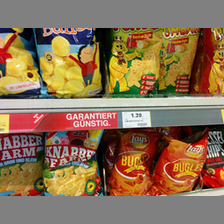chips: (33, 28, 105, 96), (41, 132, 102, 197), (107, 29, 163, 98), (153, 132, 208, 195), (107, 132, 157, 195), (1, 27, 42, 95), (159, 29, 199, 97), (1, 135, 45, 195)
